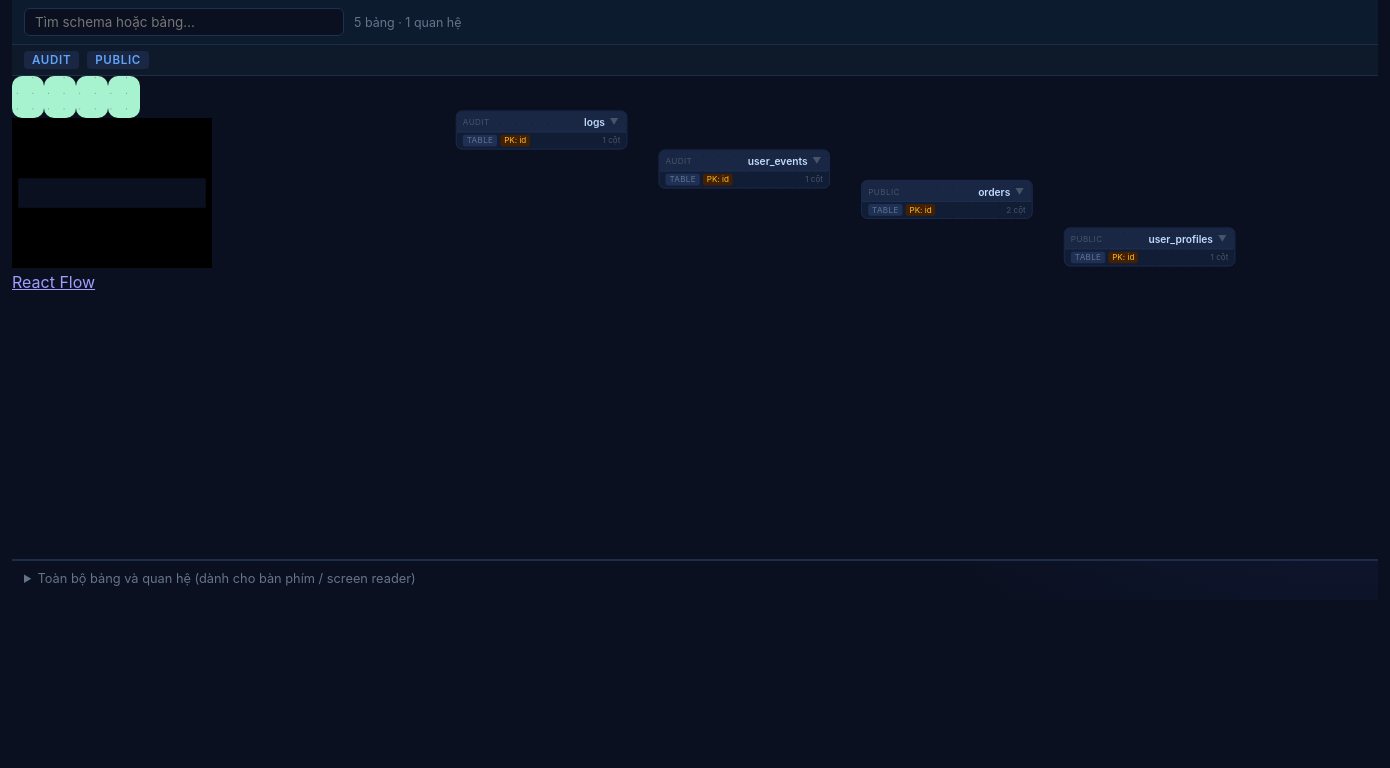
Test case: FullErd › search input filters nodes: only matching names remain visible
In the search field: (184, 22) top-left (24, 8), bottom-right (344, 36), type "logs"
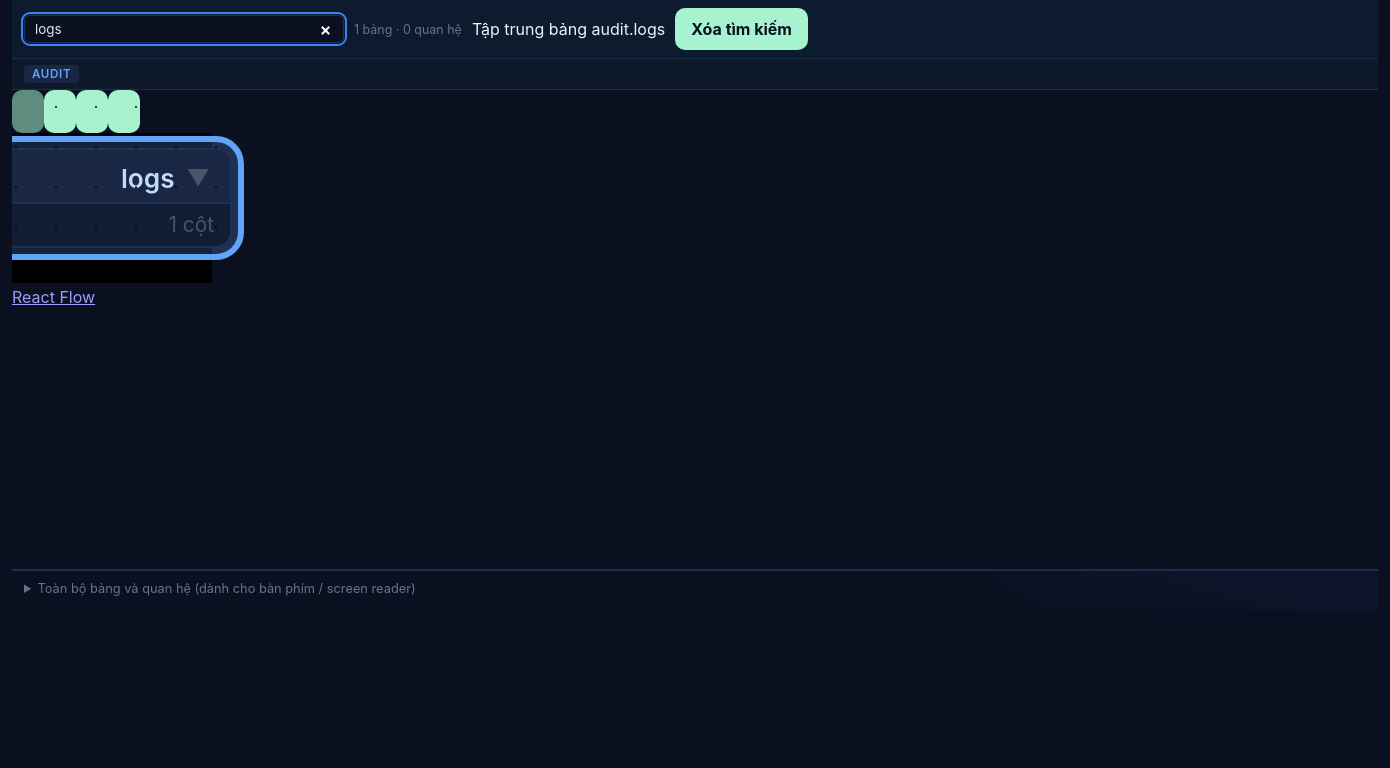
Check: the text "1 bảng · 0 quan hệ" is shown, box top-left (354, 22), bottom-right (462, 37)
